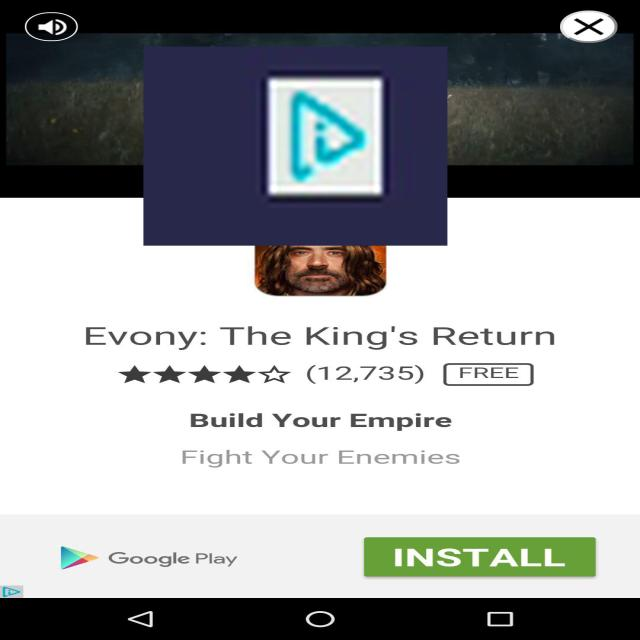sneaking: (144, 46, 448, 245)
